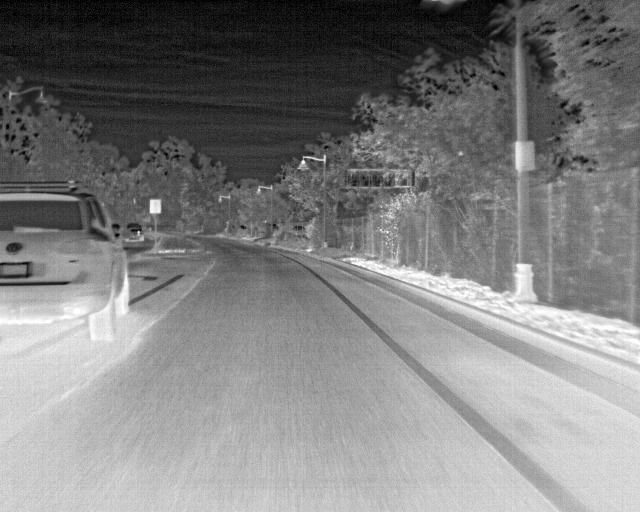car: (0, 178, 132, 343), (109, 222, 123, 242), (128, 224, 144, 240)
